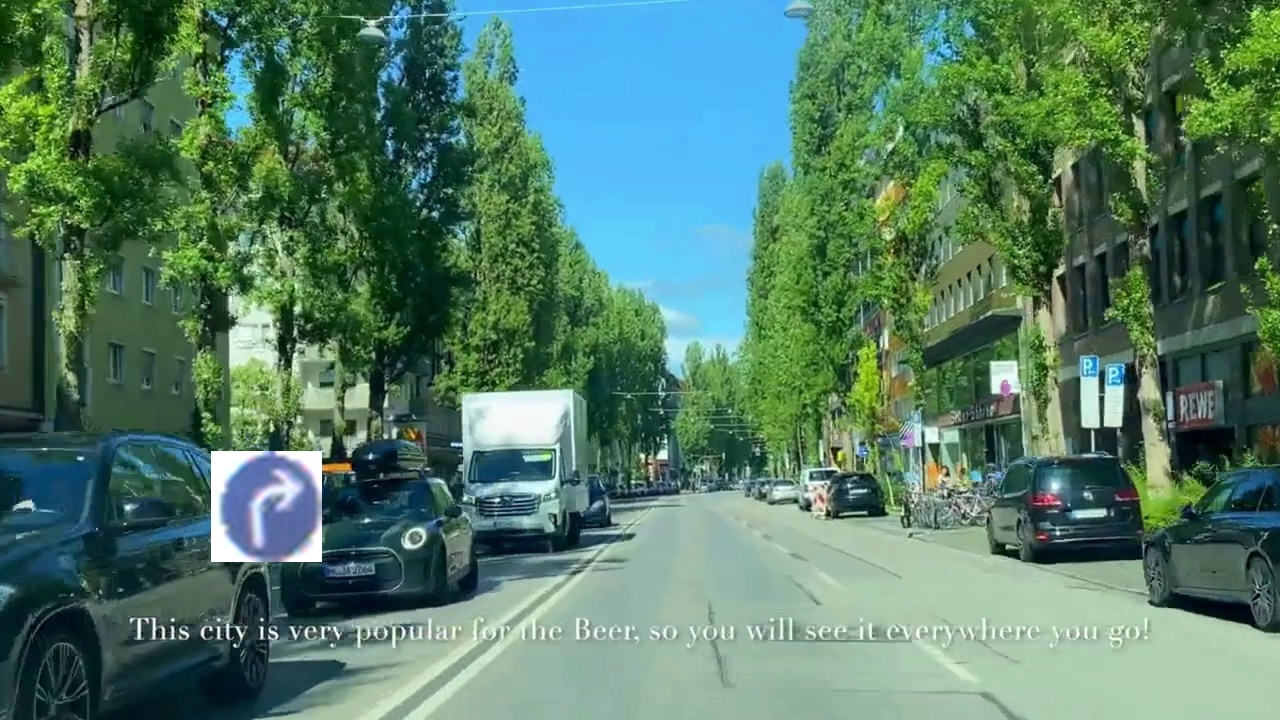Turn right: (211, 451, 322, 562)
